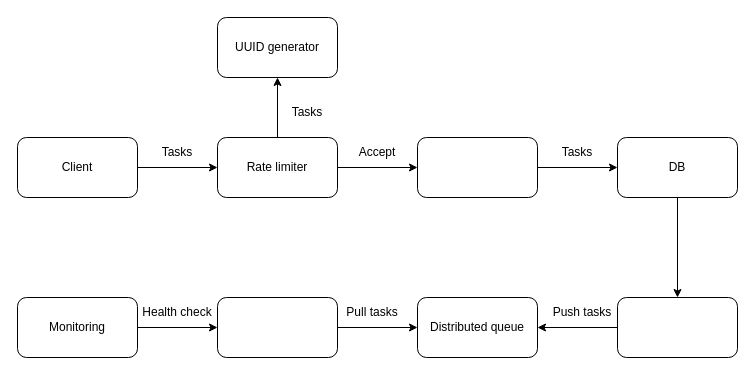
This 755x375 diagram has some shape labels left out. The centre of each missing label's shape, as x and y in pixels:
"Batching & prioritization" goes at point 677,327.
"Resource" goes at point 277,327.
"Task submitter" goes at point 477,167.
